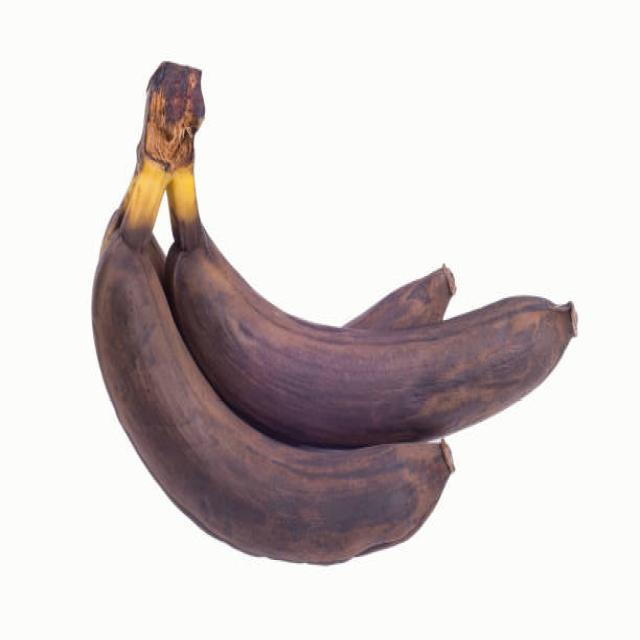Rotten: (168, 162, 578, 440)
